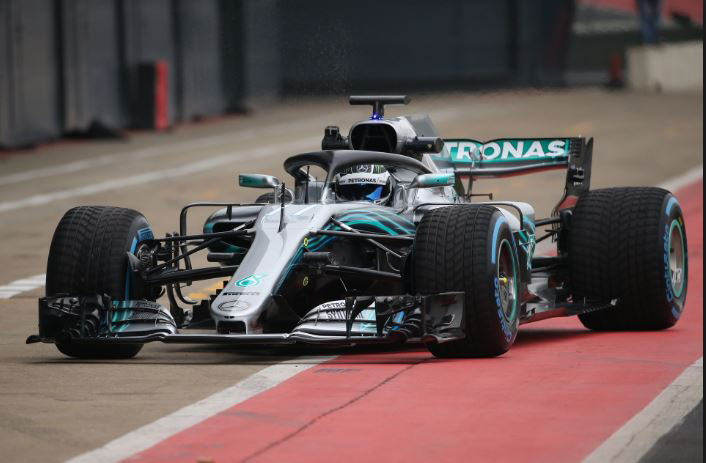F1 Car: (26, 95, 694, 364)
